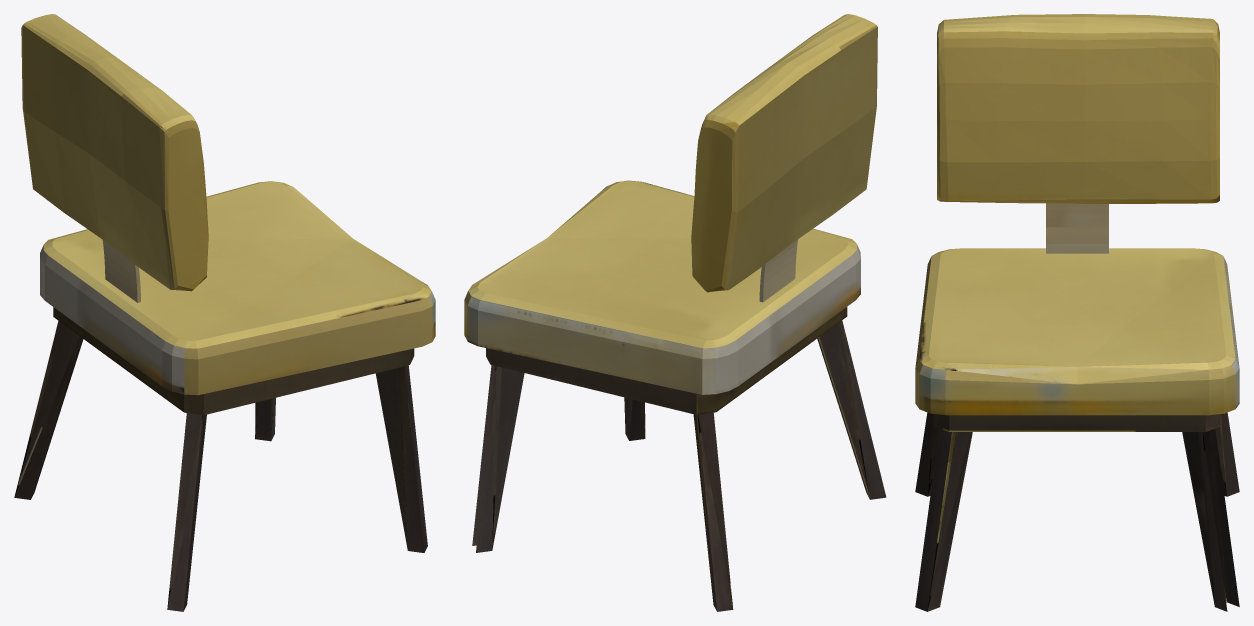
3 renders of one model, left to right at view 1: azimuth 30°, elevation 25°; view 2: azimuth 150°, elevation 25°; view 3: azimuth 270°, elevation 25°, orthographic. The views are drawn at different scales.
Visible parts, largest first — view 1: Node; view 2: Node; view 3: Node.
Part boxes in pixels (box(x1,y1,x2,y2)): Node: box(14, 14, 435, 611); Node: box(464, 14, 886, 611); Node: box(915, 14, 1239, 611).
Bounding box in the file's own units: 0.4101 × 0.7 × 0.4298.
1 material, 1 textured.
